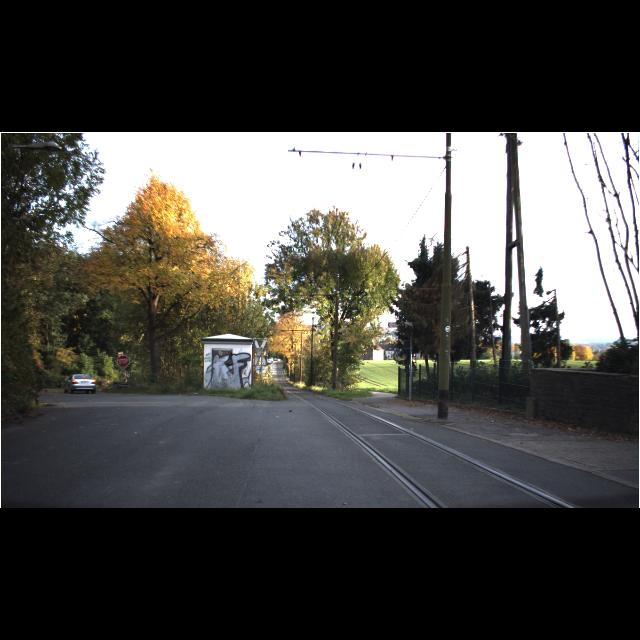other: (116, 354, 130, 368)
